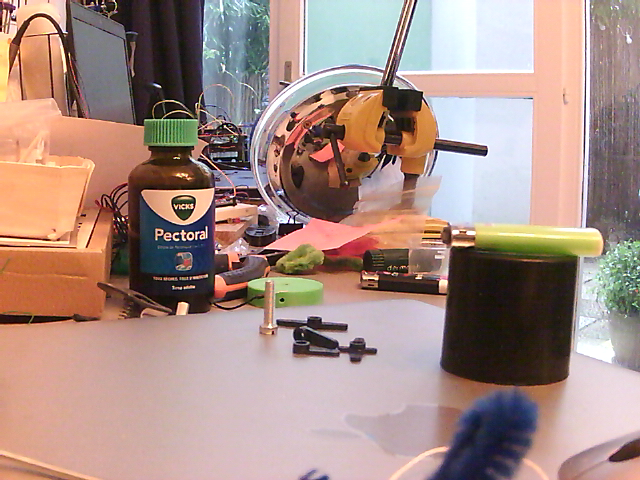bolt: (258, 281, 280, 338)
lighter: (438, 221, 605, 260)
